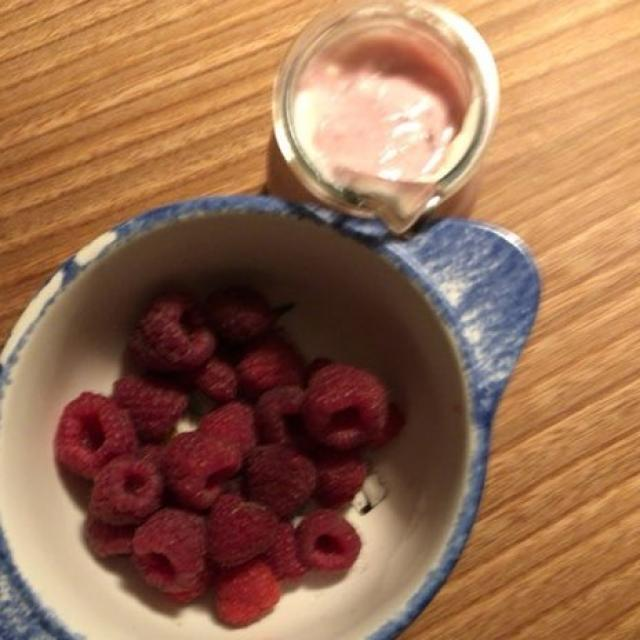raspberries: (59, 288, 386, 617)
